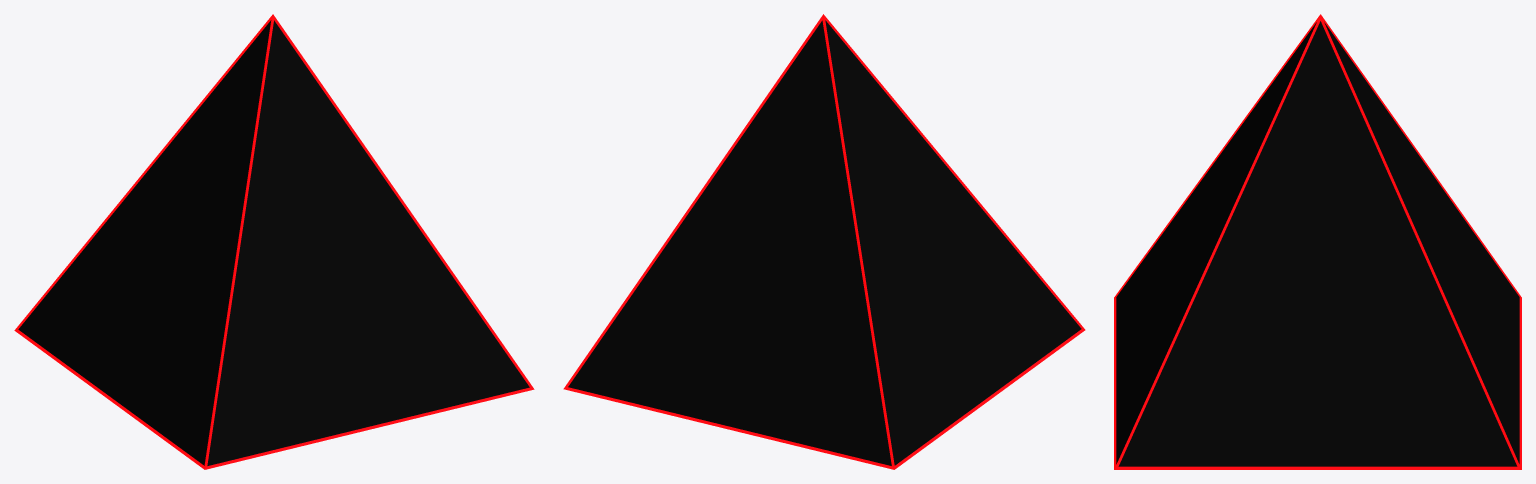
The picture shows the model from 3 angles, left to right: view 1: azimuth 30°, elevation 25°; view 2: azimuth 150°, elevation 25°; view 3: azimuth 270°, elevation 25°; orthographic projection. The views are drawn at different scales.
Visible parts, largest first — view 1: Cube; view 2: Cube; view 3: Cube.
Part boxes in pixels (<box>): Cube: <box>14,14,534,469</box>; Cube: <box>563,14,1085,469</box>; Cube: <box>1114,14,1521,469</box>.
Bounding box in the file's own units: 2.01 × 2.01 × 2.01.
